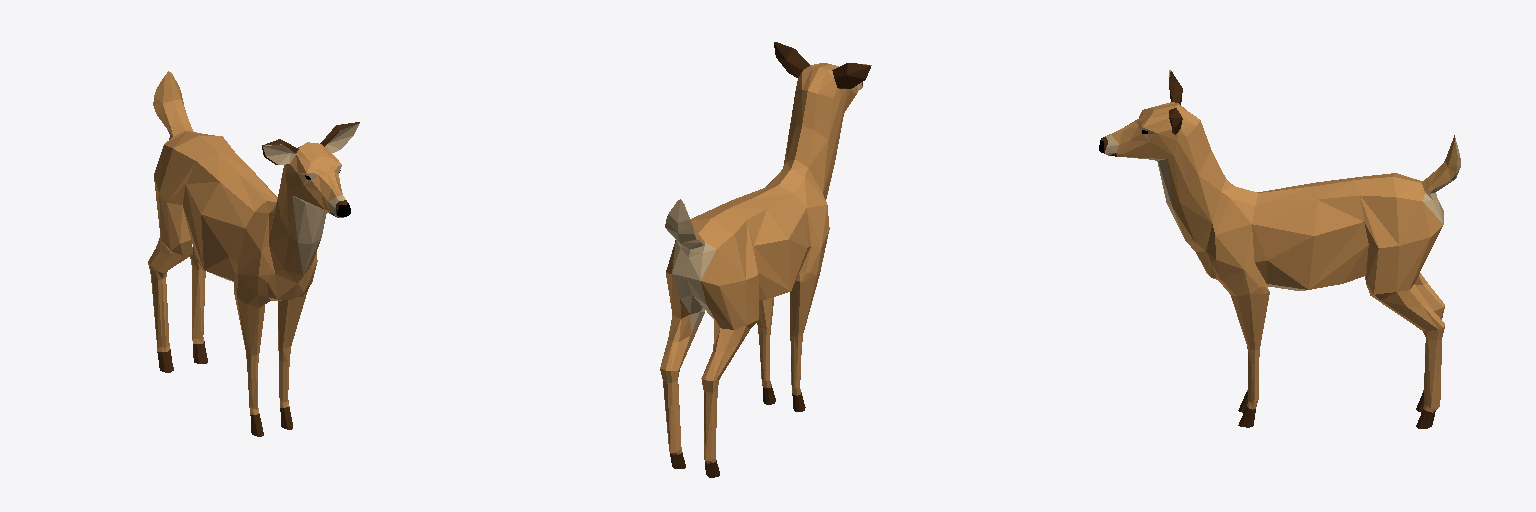
File: deer_colorMap.obj
3 renders of one model, left to right at view 1: azimuth 30°, elevation 25°; view 2: azimuth 150°, elevation 25°; view 3: azimuth 270°, elevation 25°, orthographic.
Bounding box in the file's own units: 35.28 × 112 × 113.